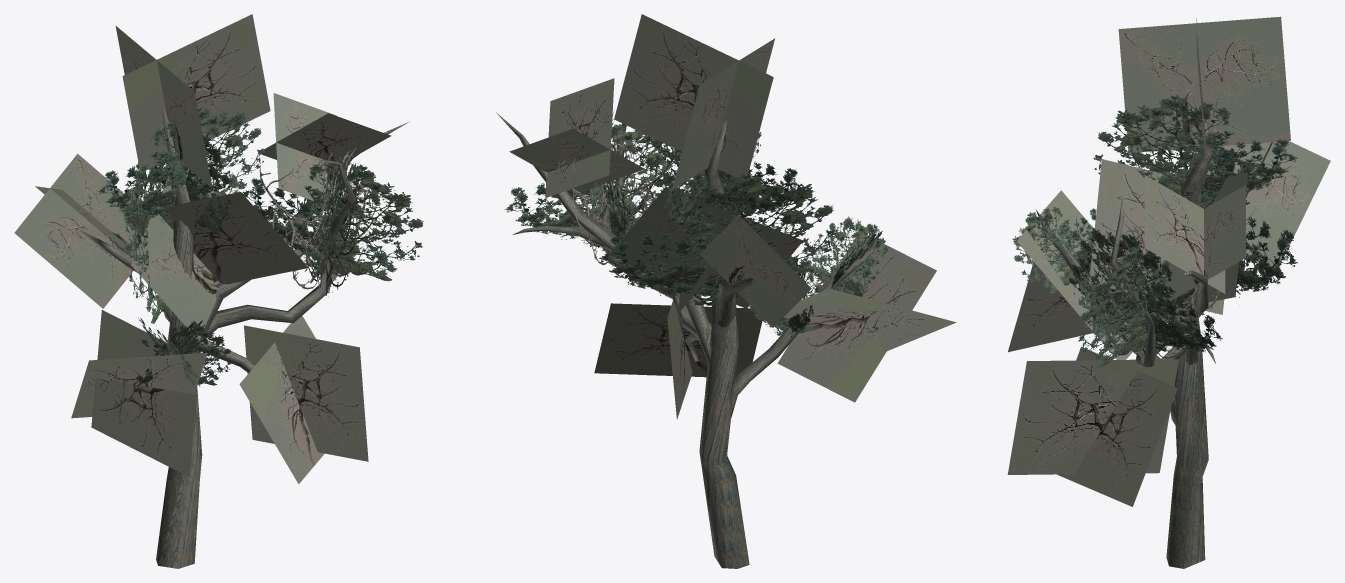
Rendered from ever_torreypinetree_l0.fbx.
The picture shows the model from 3 angles, left to right: view 1: azimuth 30°, elevation 25°; view 2: azimuth 150°, elevation 25°; view 3: azimuth 270°, elevation 25°; orthographic projection. The views are drawn at different scales.
Visible parts, largest first — view 1: mesh_node; view 2: mesh_node; view 3: mesh_node.
Part boxes in pixels (x1=…): mesh_node: x1=14, y1=14, x2=423, y2=568; mesh_node: x1=496, y1=14, x2=956, y2=568; mesh_node: x1=1007, y1=16, x2=1330, y2=568.
Bounding box in the file's own units: 6.98 × 9 × 5.09.
